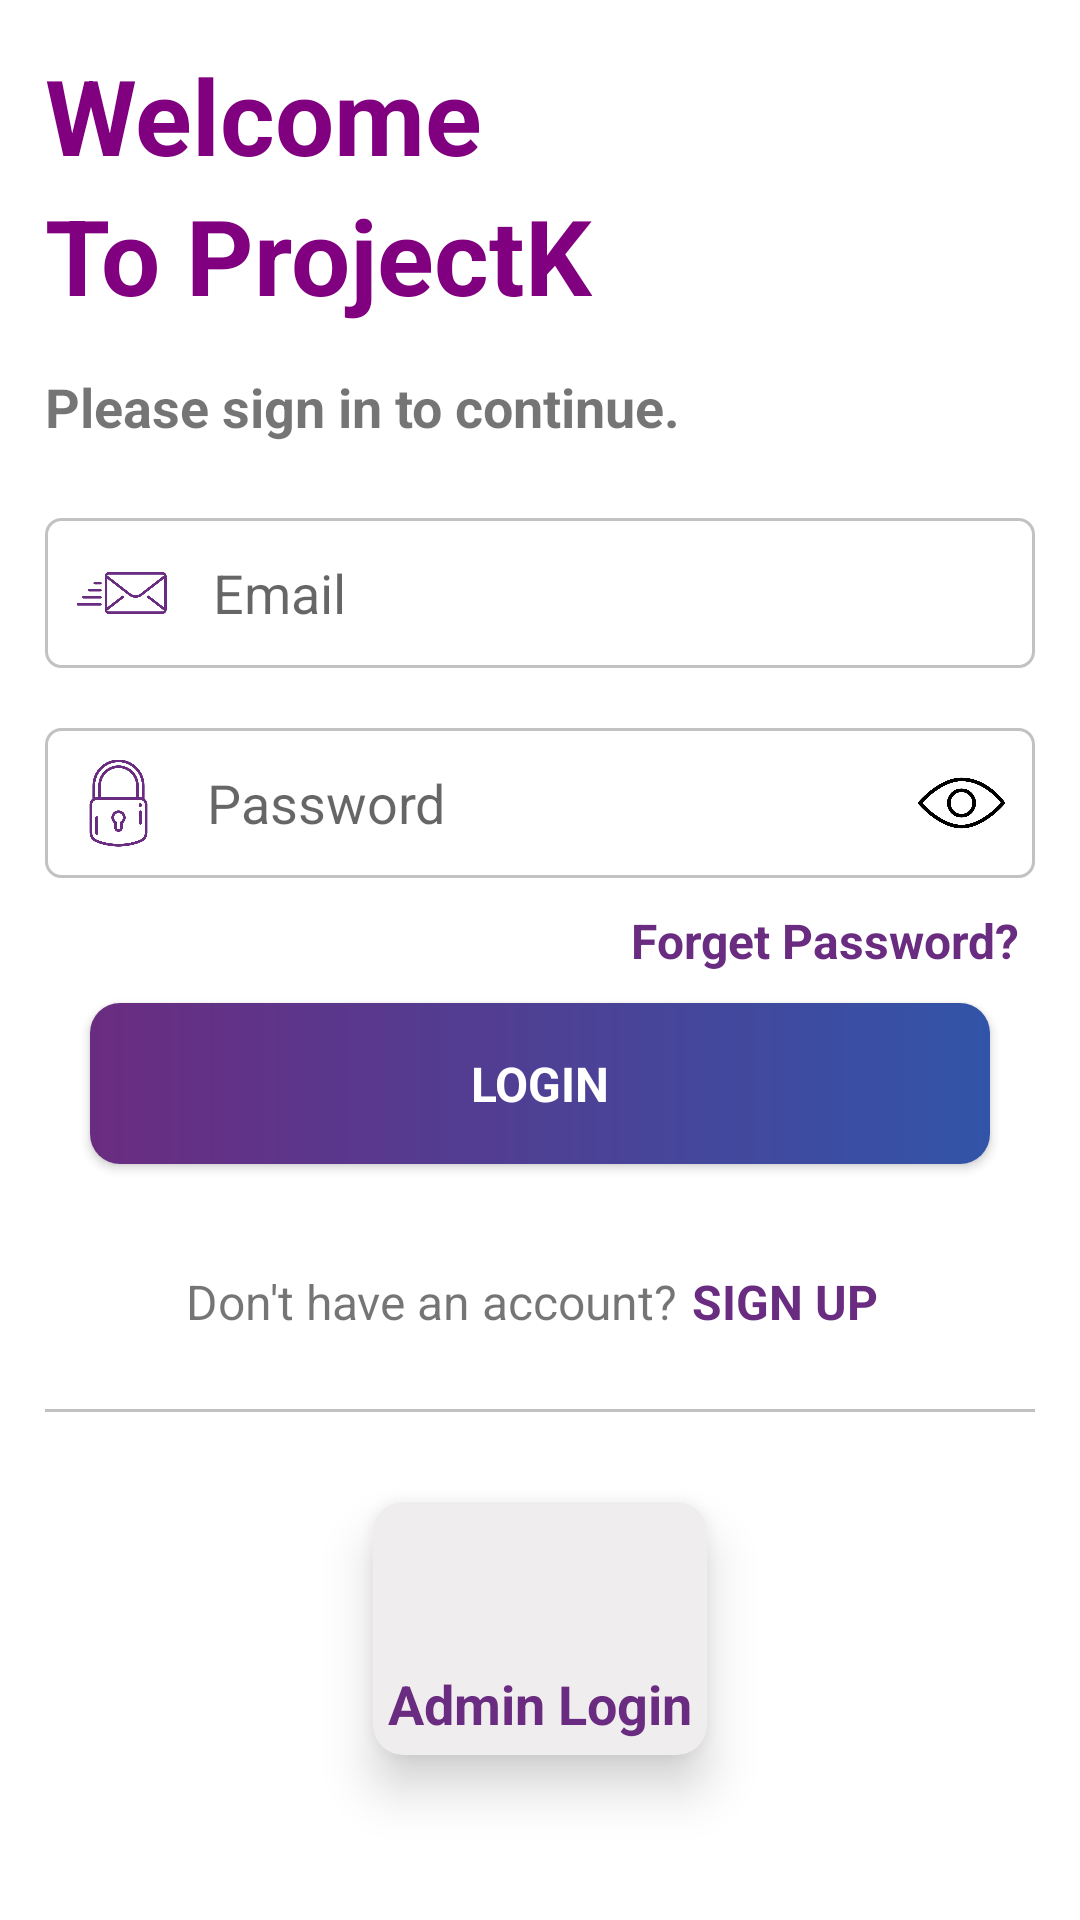

Icon click points for this 1080px x 1920px phone screenshot, format [x,y]:
eye: [961,803]
loock: [118,803]
